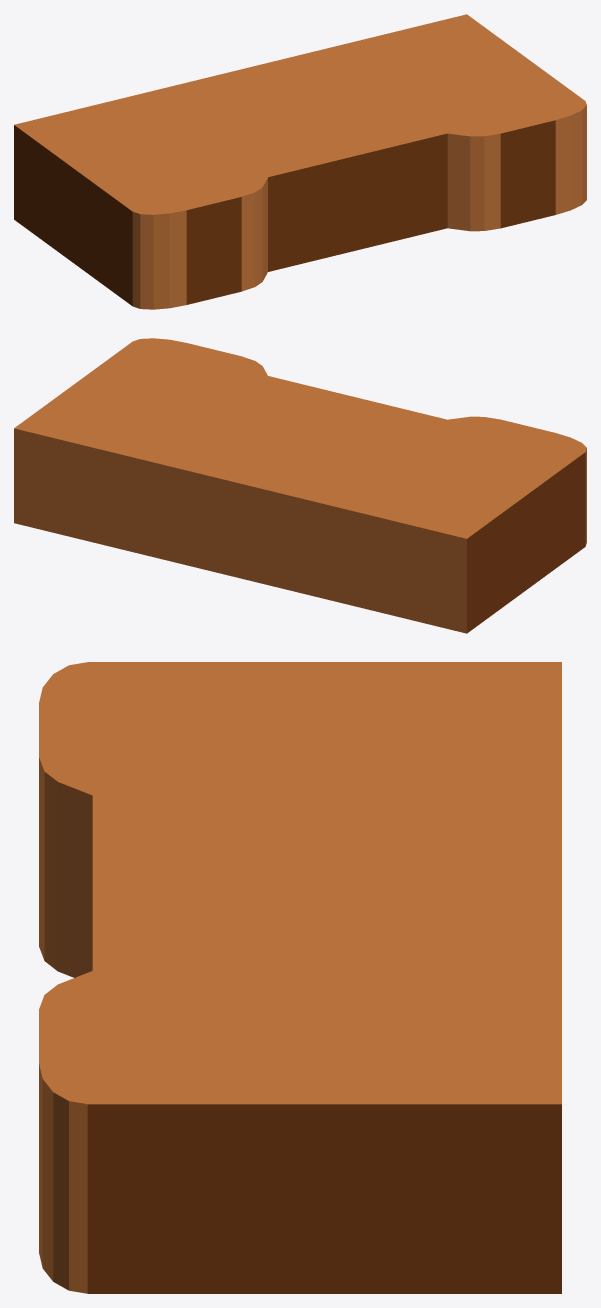
Rendered from Deck.fbx.
The picture shows the model from 3 angles, top to bottom: view 1: azimuth 30°, elevation 25°; view 2: azimuth 150°, elevation 25°; view 3: azimuth 270°, elevation 25°; orthographic projection. The views are drawn at different scales.
Visible parts, largest first — view 1: Cube; view 2: Cube; view 3: Cube.
Boxes of the visible parts, left/top/right/bottom form: Cube: left=14, top=14, right=586, bottom=309; Cube: left=14, top=338, right=586, bottom=633; Cube: left=39, top=662, right=561, bottom=1293.
Bounding box in the file's own units: 10 × 5 × 2.
